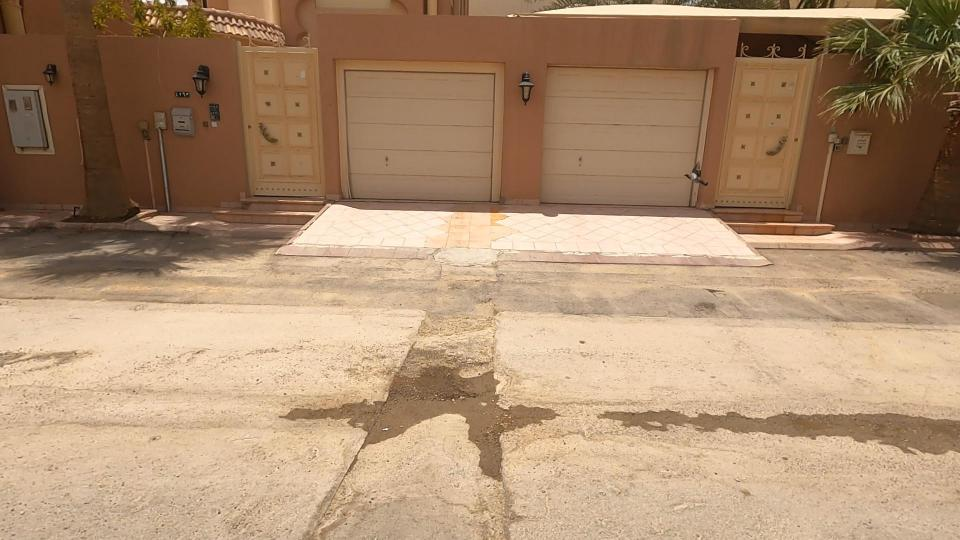POTHOLES: (270, 282, 618, 540)
